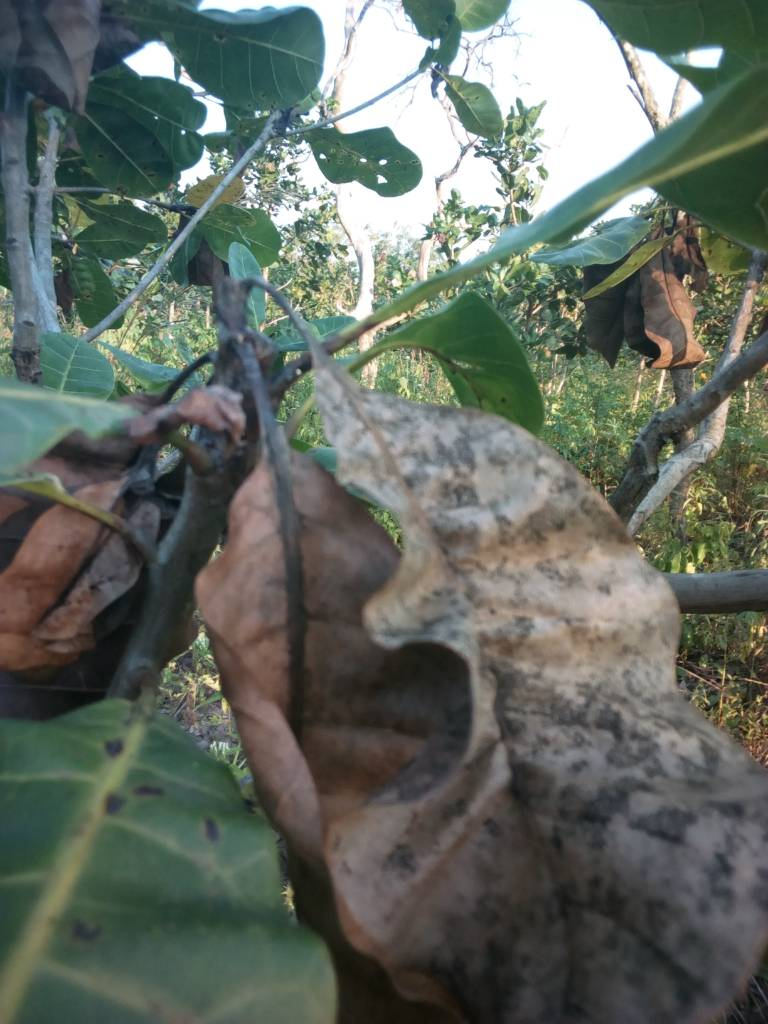Dessèchement des bourgeons: (66, 330, 266, 595)
